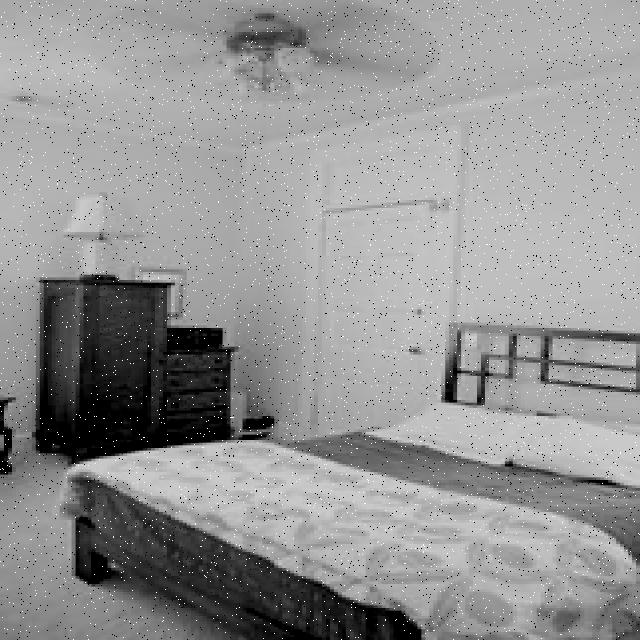bed: (67, 314, 639, 640)
